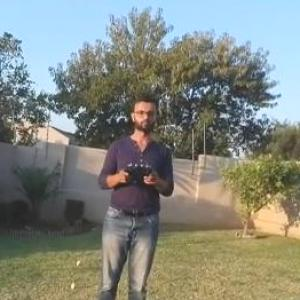follow: (89, 82, 179, 299)
